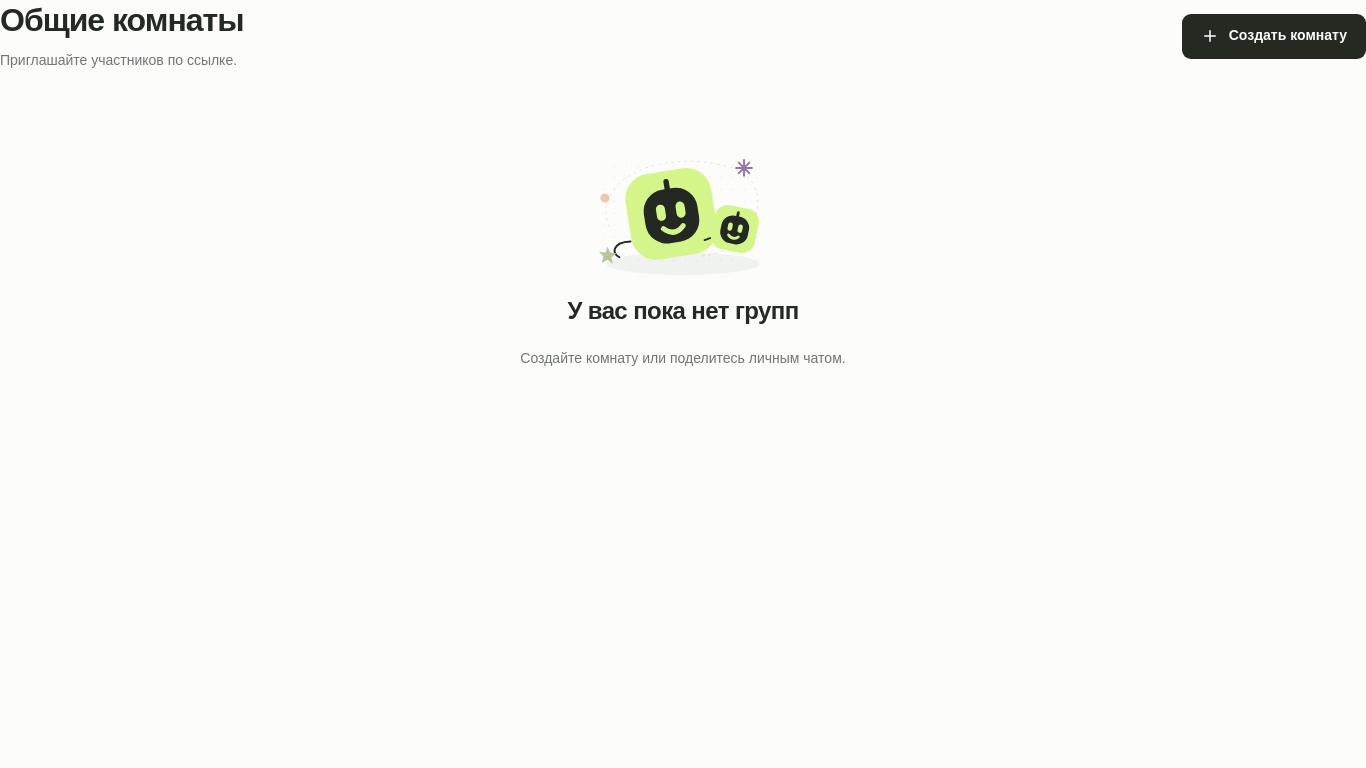
Test: shows storage failures inside the active create-room dialog
The image size is (1366, 768).
Click the button "Создать комнату" at (1274, 36), box left=1182, top=14, right=1365, bottom=59
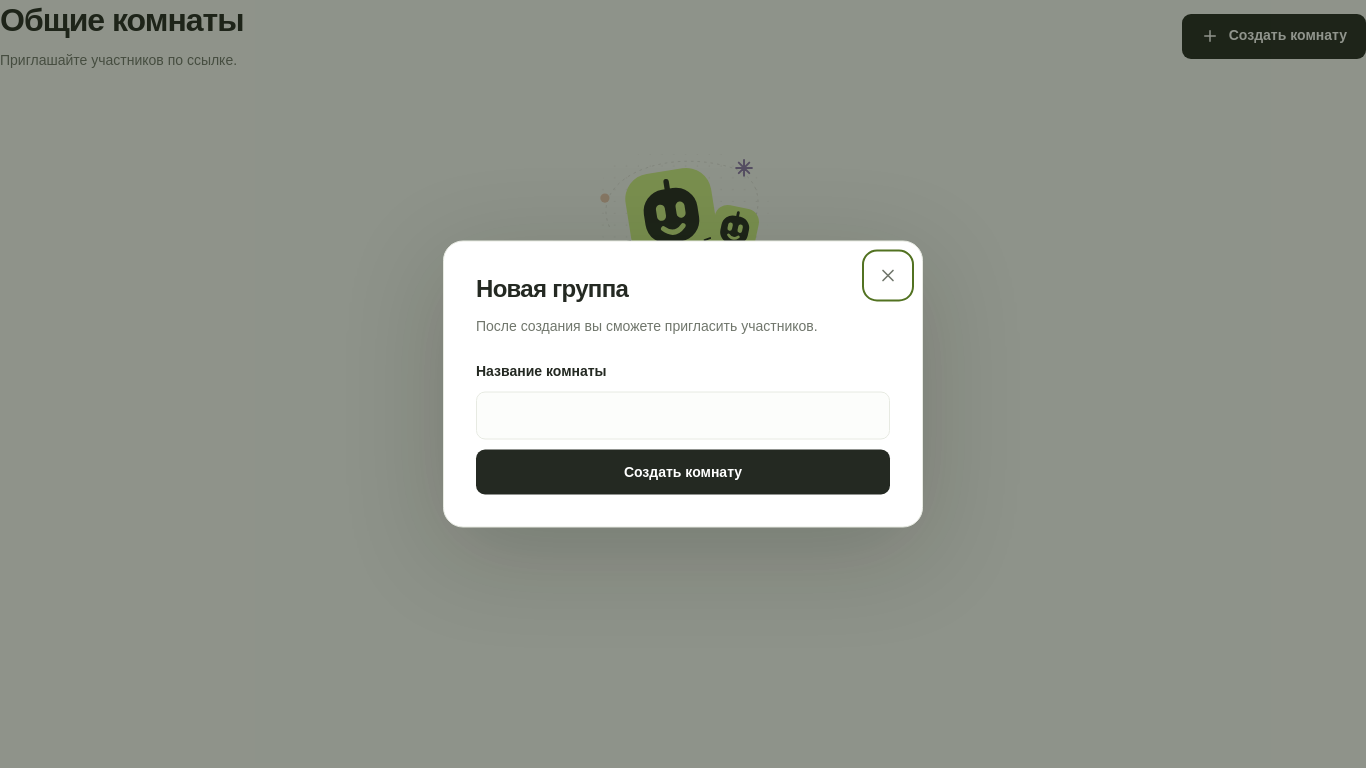
Type "Поездка" into the field labelled "Название комнаты" at (683, 416), box left=476, top=392, right=890, bottom=440
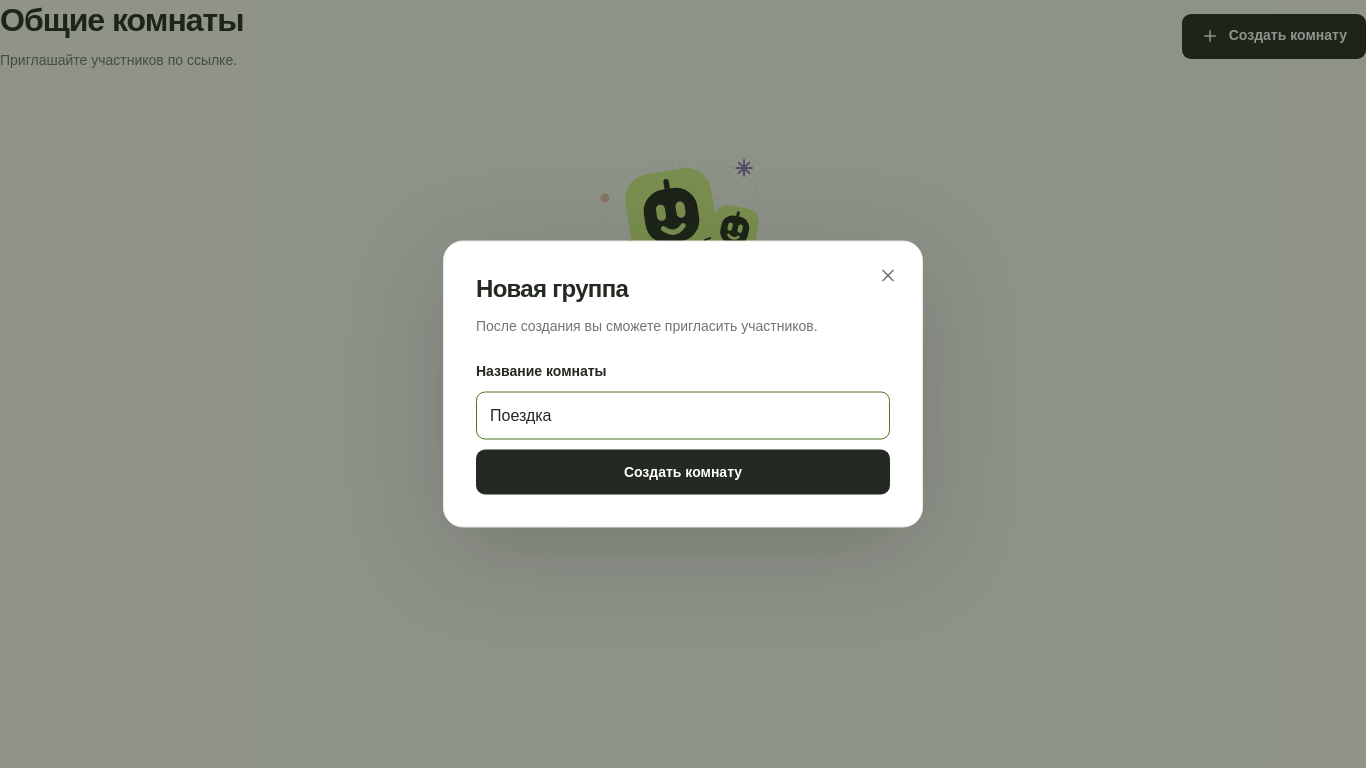
Click the button "Создать комнату" at (683, 472), box left=476, top=450, right=890, bottom=494
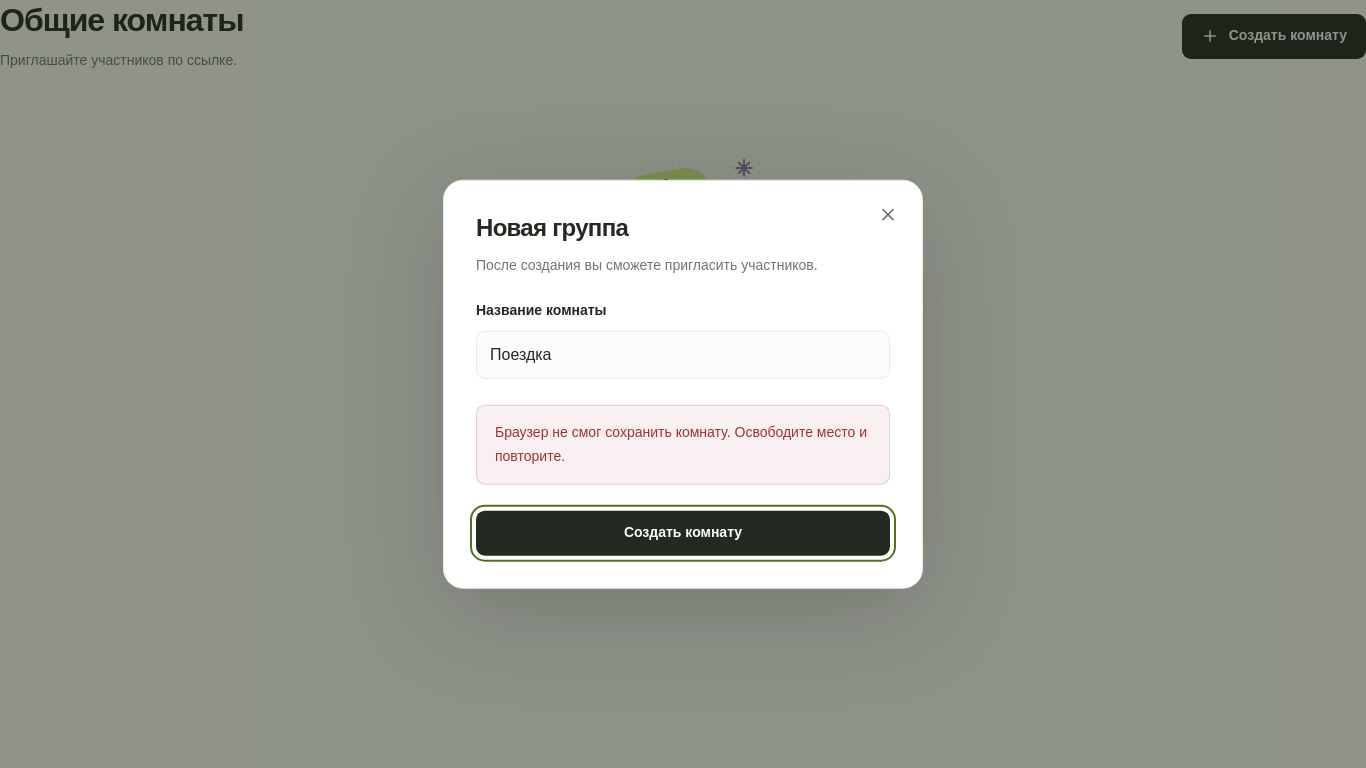
Now the message shows "не смог сохранить", box left=495, top=424, right=867, bottom=464
